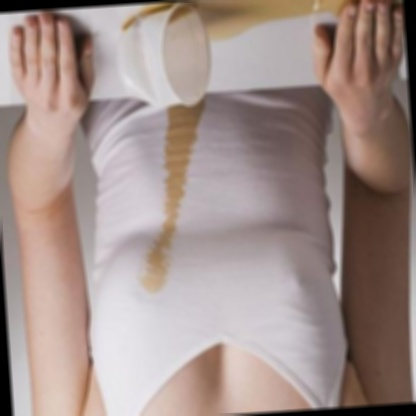coffee: (154, 107, 209, 240), (127, 239, 182, 293)
